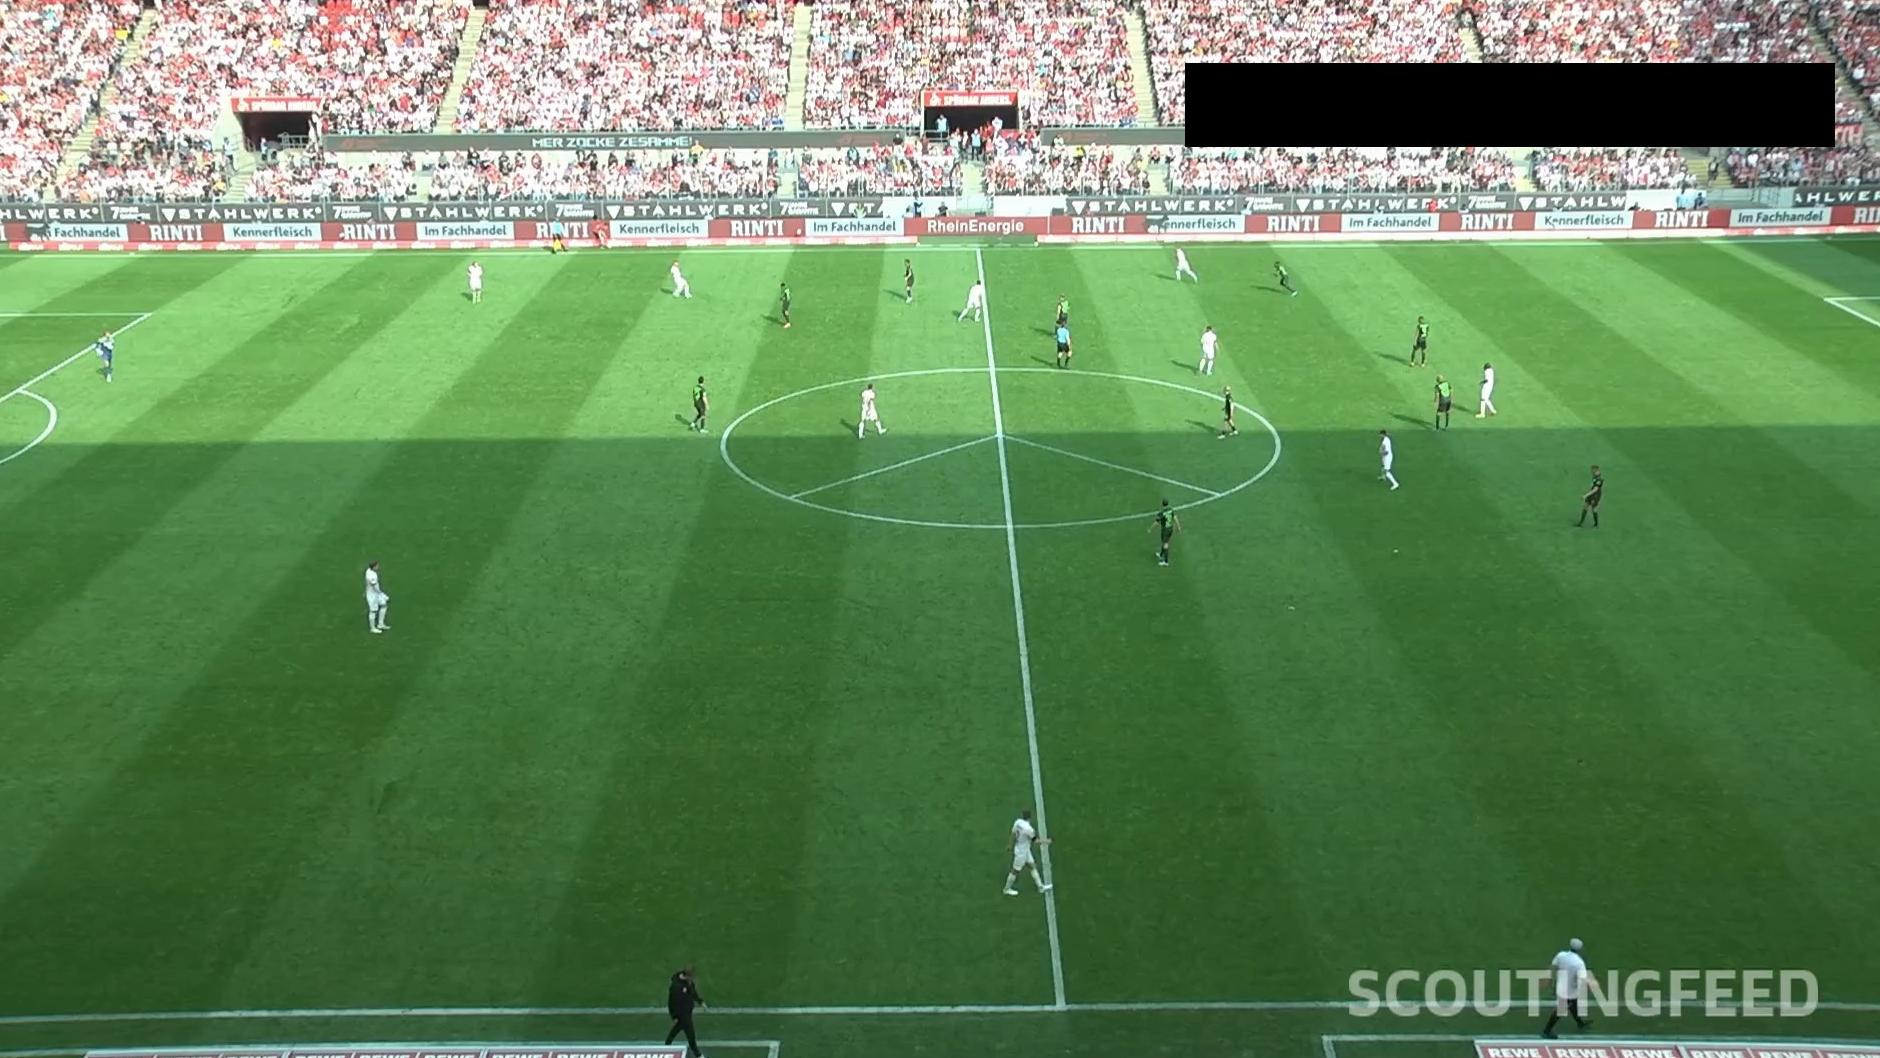ball: (684, 291, 695, 300)
